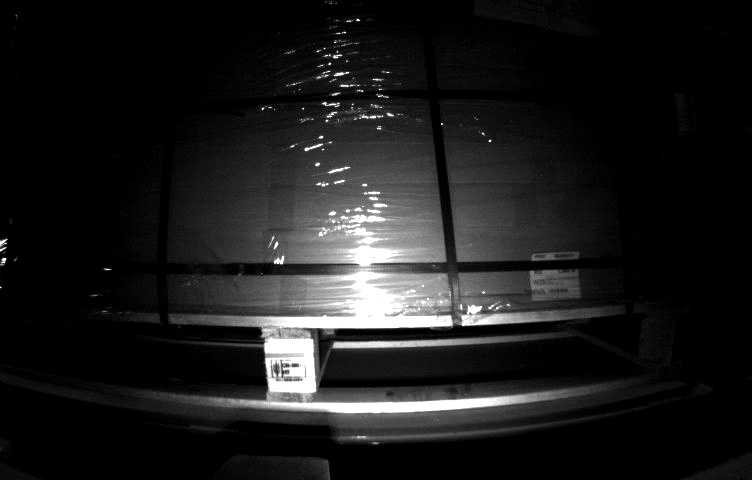True Barcode: (528, 254, 579, 299)
